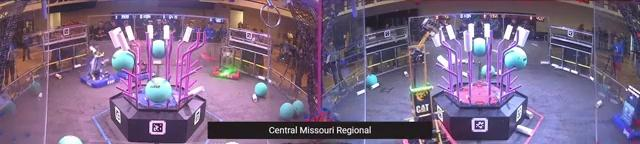reef: (110, 24, 205, 143), (432, 24, 528, 141)
robot: (401, 14, 457, 144), (612, 84, 640, 144), (81, 46, 120, 88), (211, 47, 244, 80), (116, 68, 153, 80)
